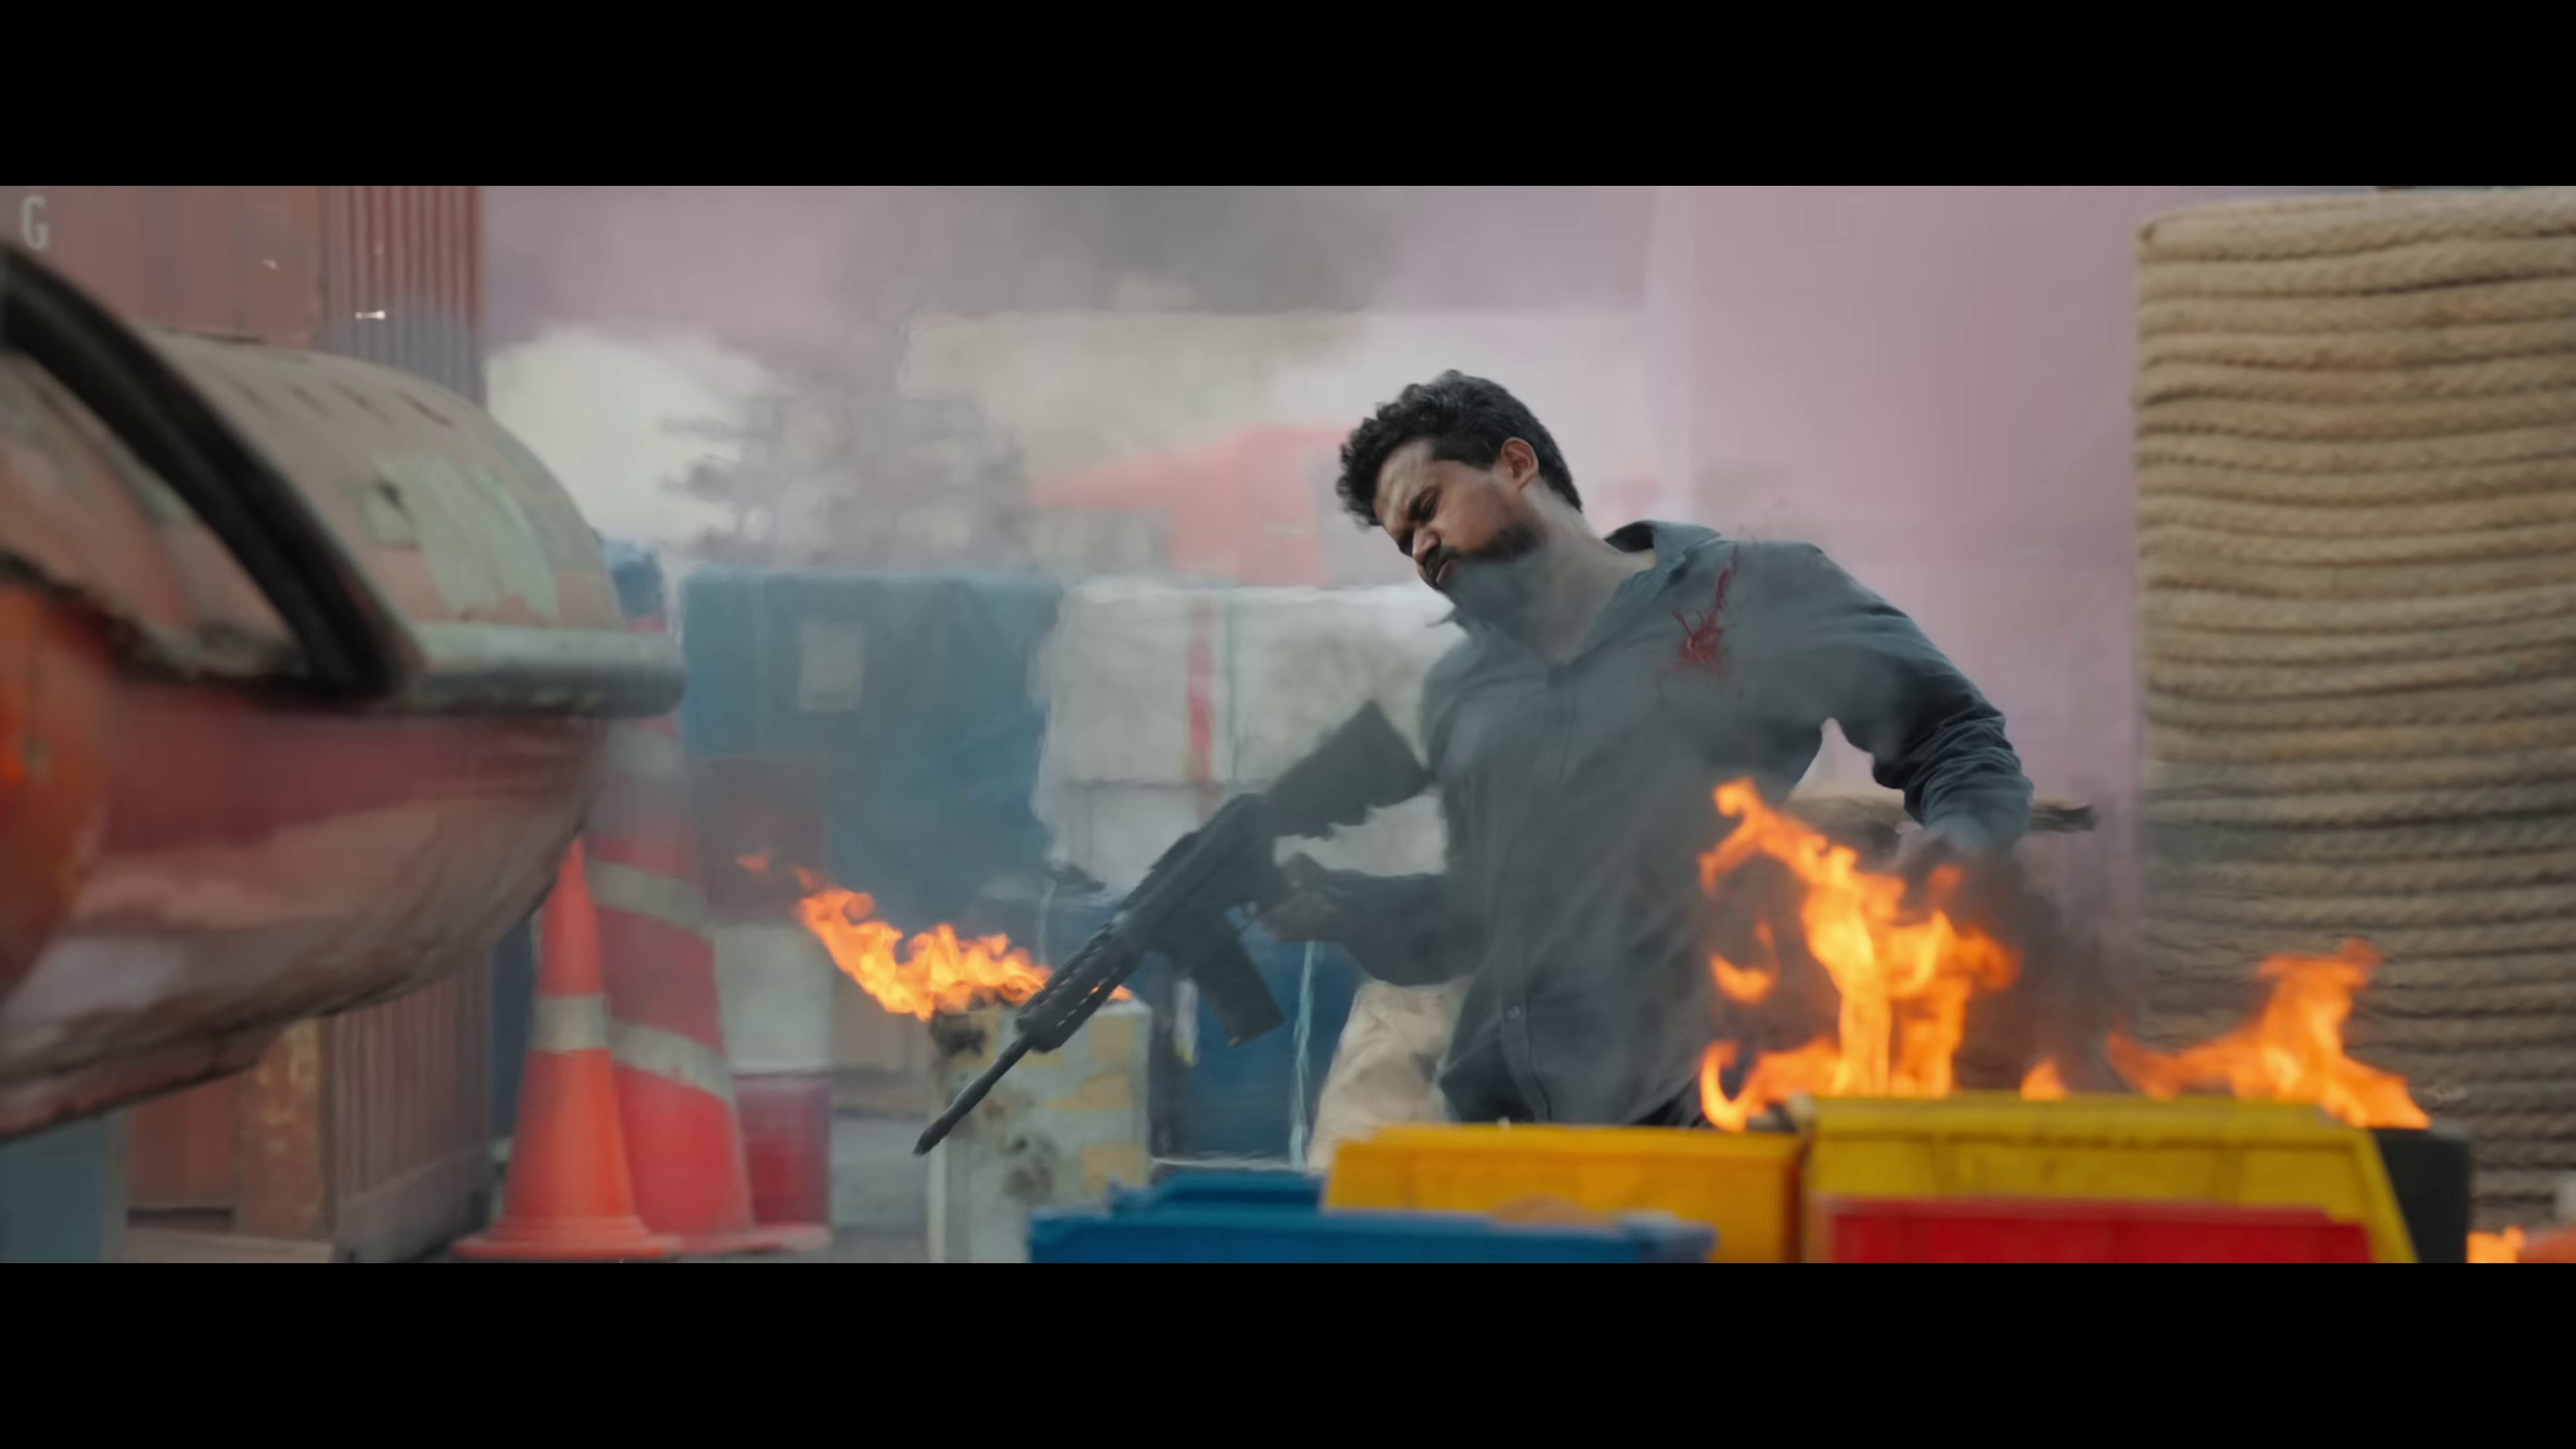gun: (902, 692, 1437, 1177)
p_w_gun: (909, 359, 2040, 1143)
